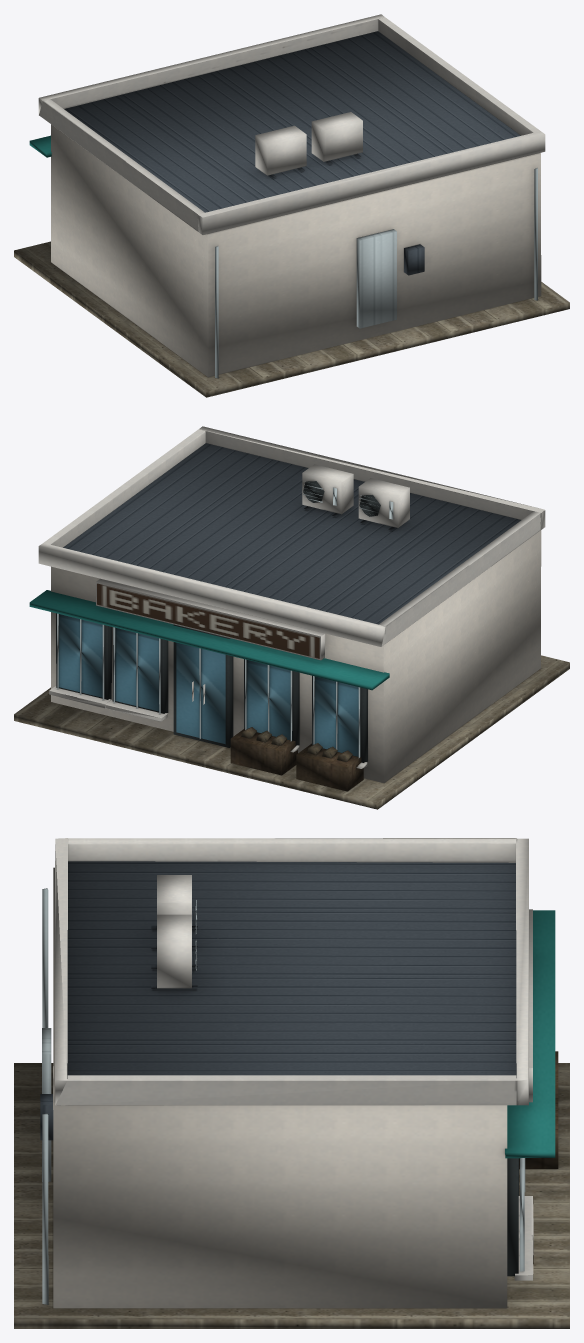
Rendered from shop_005.obj.
3 views of the same model, one above another, from view 1: azimuth 30°, elevation 25°; view 2: azimuth 150°, elevation 25°; view 3: azimuth 270°, elevation 25° (orthographic). The views are drawn at different scales.
Parts seen in each view (by area): view 1: shop_005; view 2: shop_005; view 3: shop_005.
Part boxes in pixels (bbox=[...]): shop_005: bbox=[14, 14, 569, 397]; shop_005: bbox=[14, 426, 569, 809]; shop_005: bbox=[14, 838, 569, 1328].
Bounding box in the file's own units: 7.75 × 3.88 × 7.1.
Materials: 1 (1 with a texture image).
